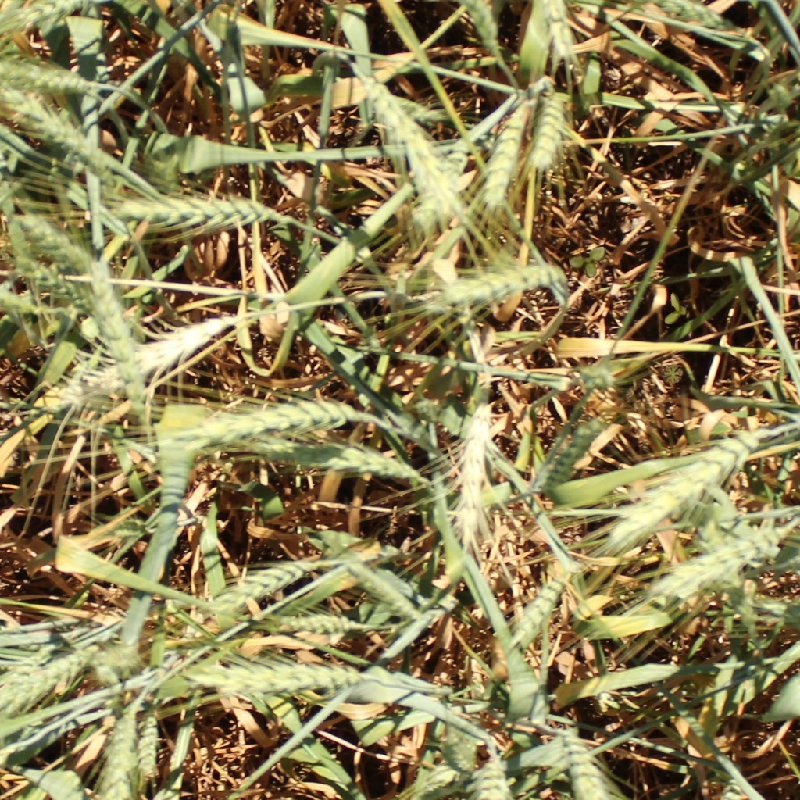spikelet: (598, 422, 767, 549), (361, 76, 460, 224), (645, 520, 784, 603), (1, 85, 115, 170), (190, 653, 369, 701), (426, 253, 568, 312), (111, 186, 281, 235), (198, 393, 366, 441), (81, 260, 146, 382), (449, 396, 500, 546), (129, 312, 237, 374), (508, 554, 579, 647), (207, 553, 318, 610), (552, 721, 631, 800), (477, 92, 529, 211), (530, 413, 605, 493), (15, 207, 101, 273), (345, 555, 424, 617), (93, 700, 141, 799), (1, 49, 100, 97), (49, 358, 132, 412), (526, 83, 574, 176), (1, 640, 54, 712), (332, 442, 424, 483), (522, 1, 581, 64), (266, 605, 359, 637), (462, 748, 517, 799), (90, 637, 145, 683), (435, 723, 482, 774), (133, 711, 165, 783), (574, 356, 620, 392)
weed: (568, 246, 611, 281), (654, 290, 690, 327), (660, 361, 687, 387)
